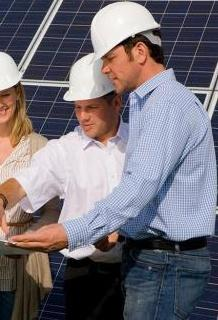hard-hat: (63, 51, 116, 101)
